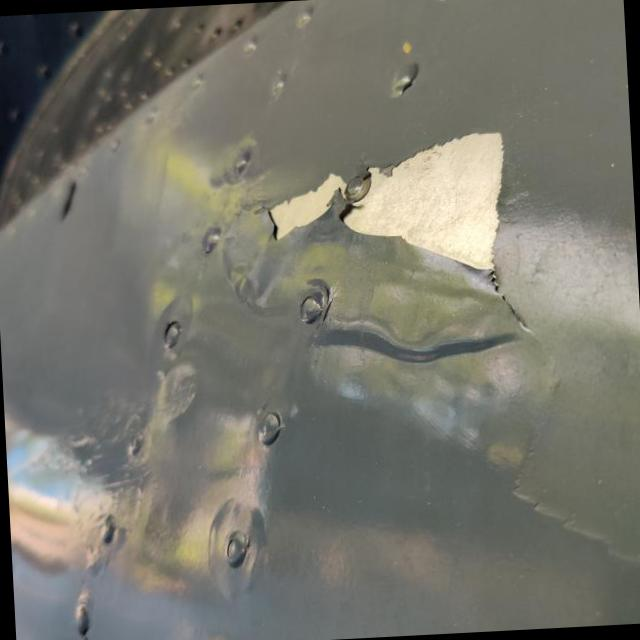Paint-off: (344, 133, 504, 274), (268, 174, 345, 239)
